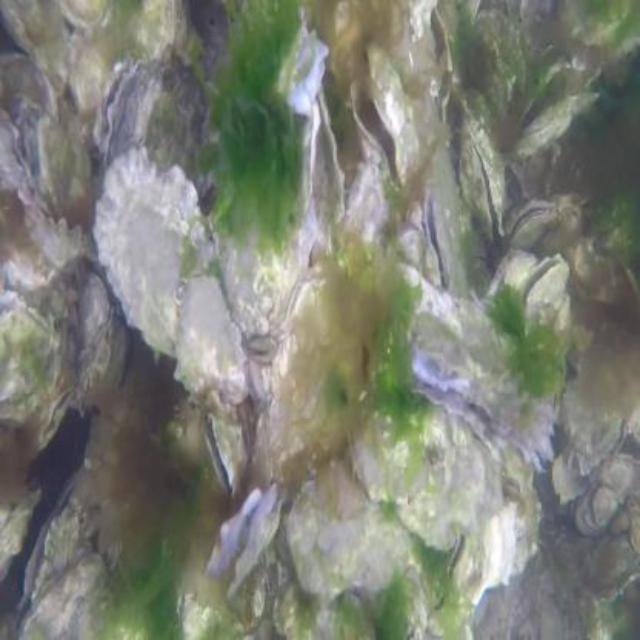Oyster-Closed: (94, 147, 218, 357), (351, 401, 486, 546), (286, 459, 414, 597), (429, 507, 515, 636), (172, 279, 248, 399), (20, 555, 109, 638), (0, 0, 72, 94), (0, 290, 56, 401), (566, 380, 625, 483), (21, 204, 100, 270), (578, 454, 634, 531), (28, 387, 74, 459), (0, 108, 33, 206), (72, 33, 108, 114), (53, 0, 112, 34), (591, 485, 618, 524), (251, 337, 279, 363)
Oyster-Open: (397, 274, 552, 468), (20, 473, 97, 613), (504, 53, 600, 164), (348, 42, 413, 199), (13, 97, 93, 220), (208, 484, 281, 597), (460, 90, 505, 249), (410, 311, 474, 390), (93, 57, 143, 155), (276, 22, 327, 115), (518, 251, 573, 325), (504, 196, 566, 254), (202, 403, 238, 502), (425, 196, 454, 292)
